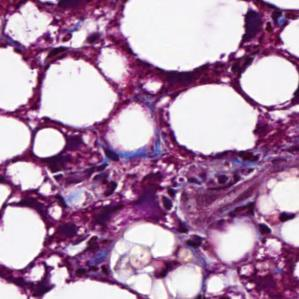inflammation: (90, 162, 133, 208), (50, 212, 97, 254)
